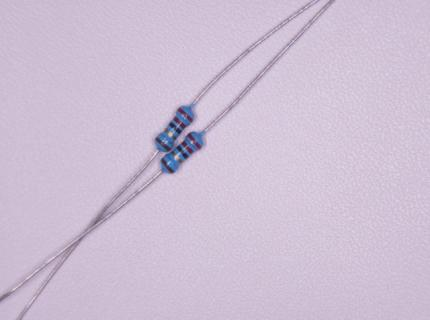Black band: (168, 121, 182, 134), (176, 145, 189, 159)
Brown band: (155, 136, 172, 151), (161, 157, 175, 174)
Gold band: (164, 128, 177, 141), (171, 151, 184, 164)
Red band: (177, 107, 194, 123), (187, 133, 202, 150), (173, 115, 187, 129), (181, 140, 194, 154)
